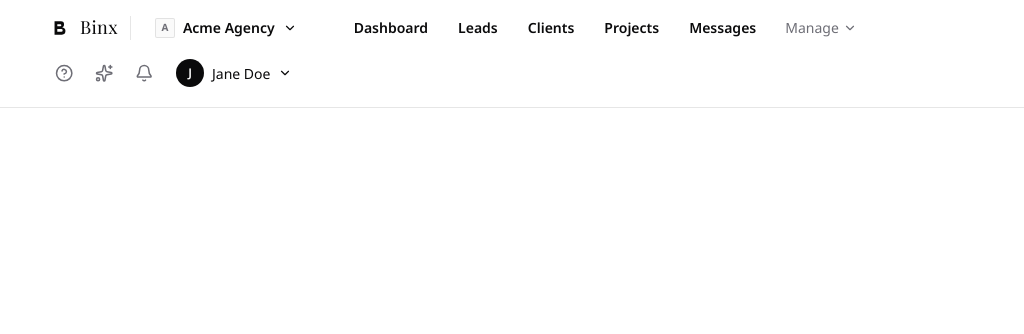
AppHeader › opens the account dropdown and shows profile, settings, and sign out
Click the button "J Jane Doe": (234, 73) [168,55,300,91]
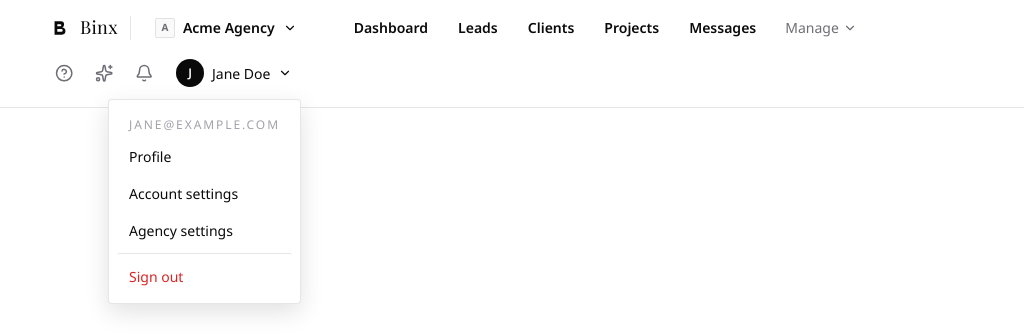
Check: the text "jane@example.com" is shown, box [129,116,280,133]
Check: the menu item "Sign out" is shown, box [117,253,292,295]
